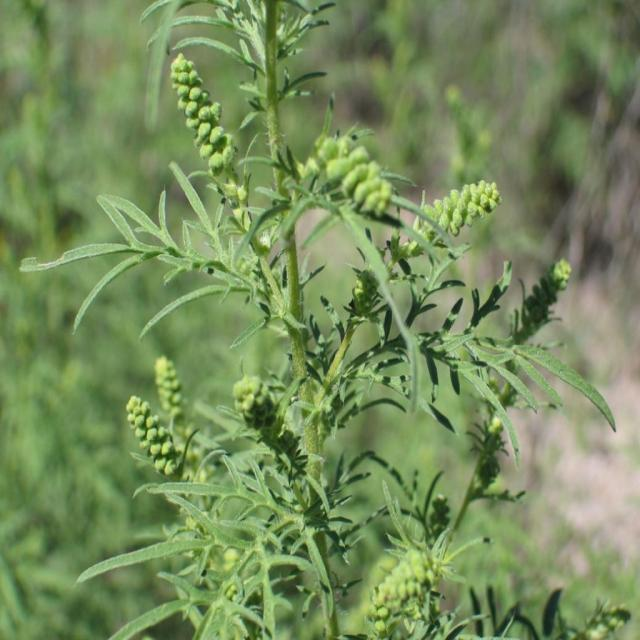ambrosia: (89, 33, 568, 629), (261, 98, 550, 285), (112, 356, 327, 527), (142, 43, 260, 310)
